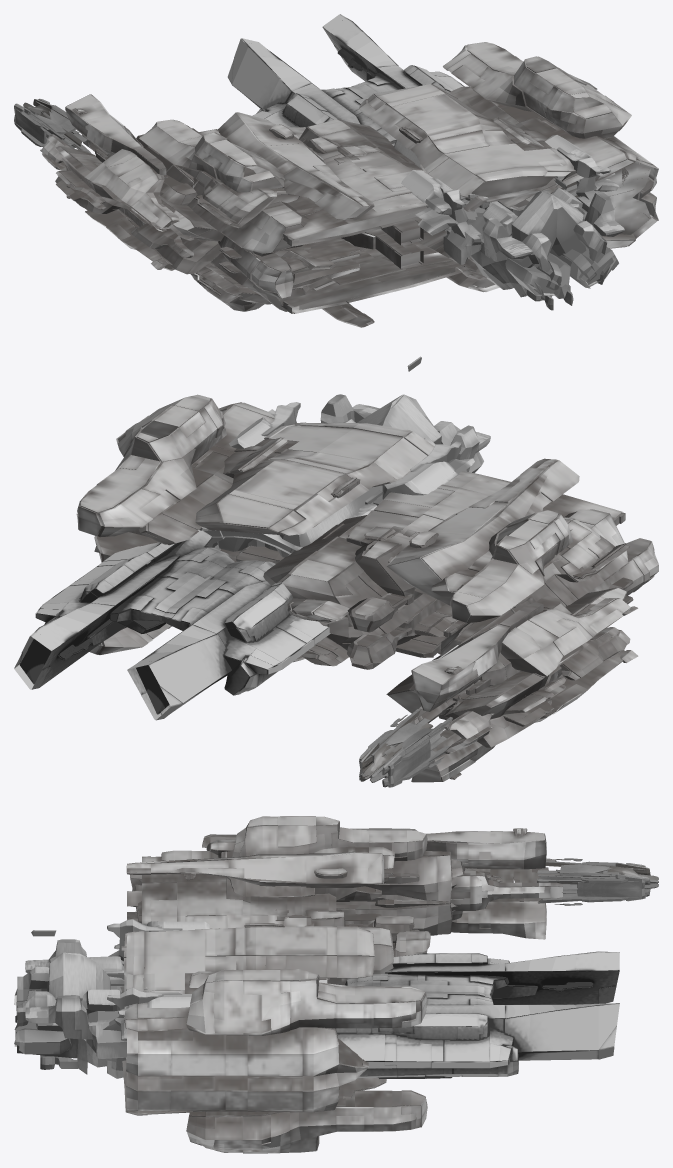
The model's file is MOTHERSHIP_004.fbx.
3 renders of one model, top to bottom at view 1: azimuth 30°, elevation 25°; view 2: azimuth 150°, elevation 25°; view 3: azimuth 270°, elevation 25°, orthographic. The views are drawn at different scales.
Visible parts, largest first — view 1: MOTHERSHIP_004; view 2: MOTHERSHIP_004; view 3: MOTHERSHIP_004.
Part boxes in pixels (x1,y1,x2,y2): MOTHERSHIP_004: [14, 14, 658, 327]; MOTHERSHIP_004: [14, 356, 658, 787]; MOTHERSHIP_004: [14, 816, 658, 1153].
Size of the model in its own units: 98.45 by 33.95 by 115.
